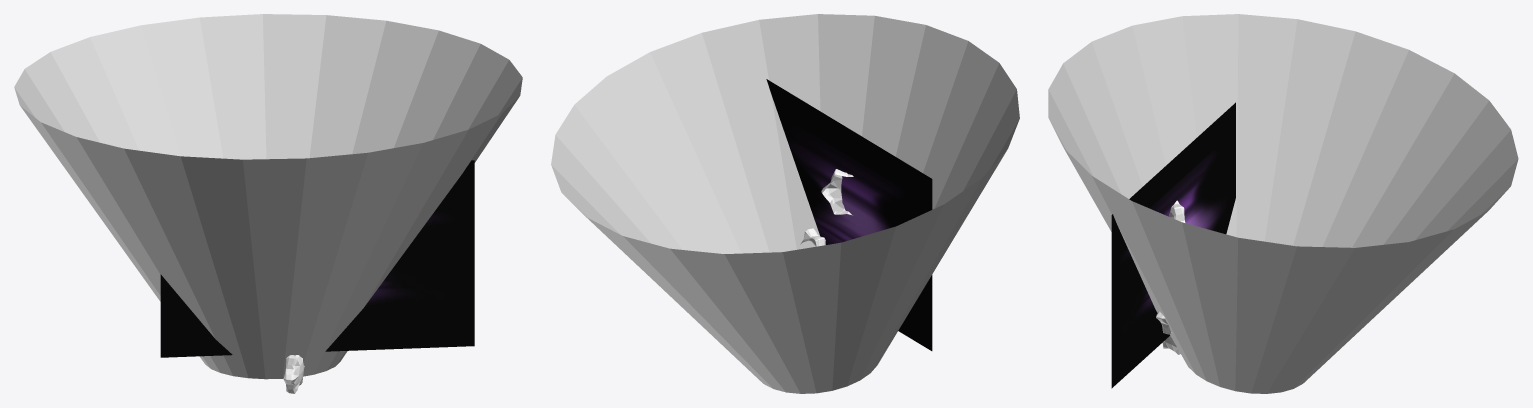
File: pref_fxui_pkmavatarhotshop_light_02.fbx
3 views of the same model, side by side, from view 1: azimuth 30°, elevation 25°; view 2: azimuth 150°, elevation 25°; view 3: azimuth 270°, elevation 25° (orthographic). The views are drawn at different scales.
Visible parts, largest first — view 1: guang_00, noise_01, baoshi03; view 2: guang_00, noise_01, baoshi01; view 3: guang_00, noise_01.
Part boxes in pixels (x1,y1,x2,y2): guang_00: [14, 14, 522, 379]; noise_01: [160, 160, 474, 357]; baoshi03: [283, 355, 304, 393]; guang_00: [551, 14, 1019, 393]; noise_01: [766, 79, 932, 350]; baoshi01: [821, 169, 853, 215]; guang_00: [1048, 14, 1518, 393]; noise_01: [1111, 102, 1235, 388].
Bounding box in the file's own units: 227 × 147 × 225.
